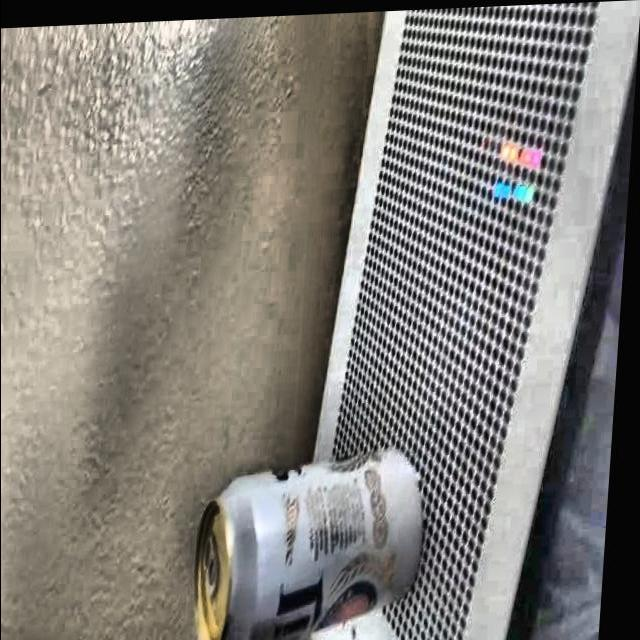litter: (182, 435, 444, 640)
